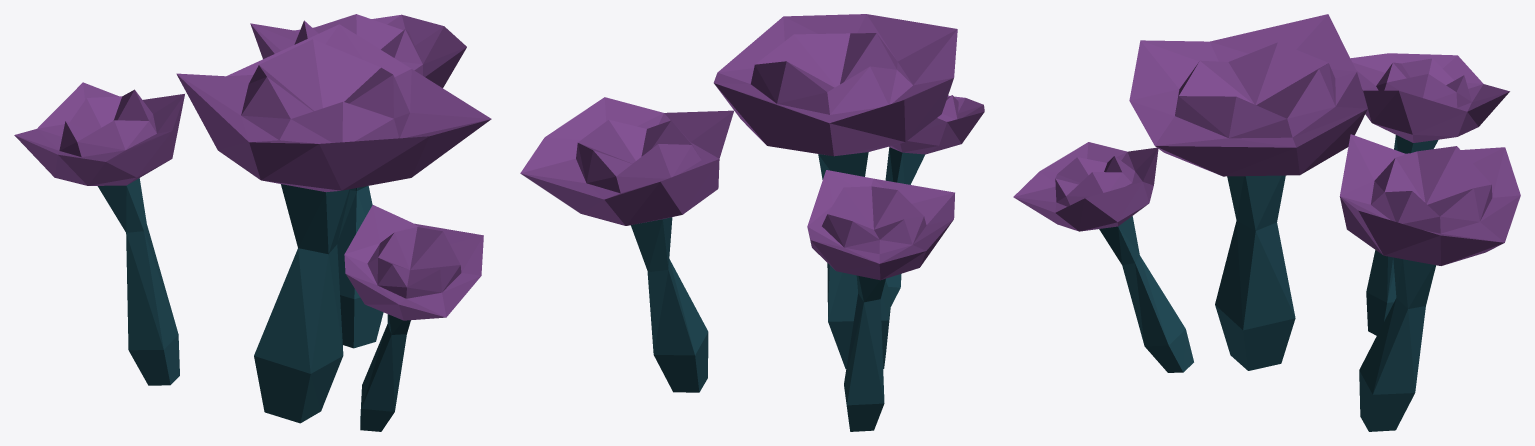
File: SM_Env_Flower_07.fbx
3 renders of one model, left to right at view 1: azimuth 30°, elevation 25°; view 2: azimuth 150°, elevation 25°; view 3: azimuth 270°, elevation 25°, orthographic. The views are drawn at different scales.
Parts seen in each view (by area): view 1: SM_Env_Flower_07; view 2: SM_Env_Flower_07; view 3: SM_Env_Flower_07.
Boxes of the visible parts, <box> form: SM_Env_Flower_07: <box>14,14,491,431</box>; SM_Env_Flower_07: <box>520,14,984,431</box>; SM_Env_Flower_07: <box>1013,14,1520,431</box>.
Bounding box in the file's own units: 0.00479 × 0.00377 × 0.00535.
1 material, 1 textured.
